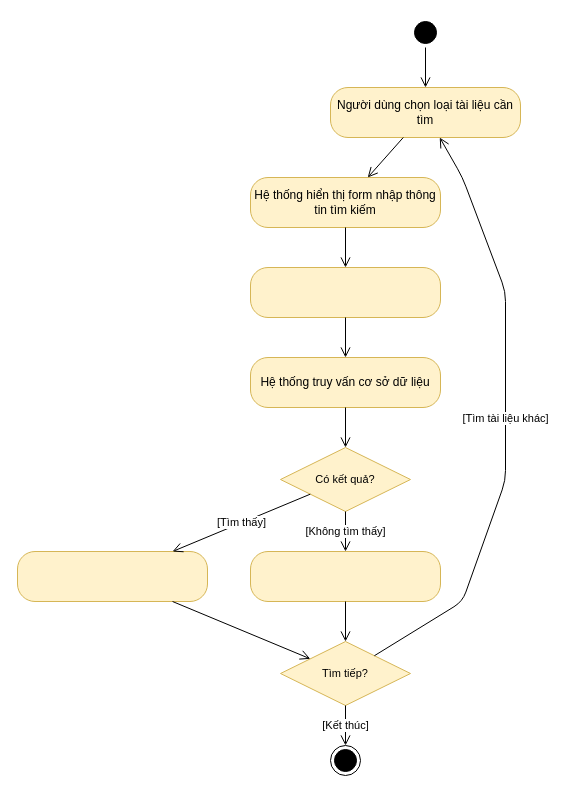
The diagram is 566 pixels wide and 793 high, and some of its shapes have lost their labels. Each missing label, with the centre of its shape:
"Hệ thống hiển thị danh sách kết quả" goes at point (112, 576).
"Hệ thống thông báo không có tài liệu phù hợp" goes at point (345, 576).
"Người dùng nhập tiêu chí và nhấn Tìm kiếm" goes at point (345, 292).
